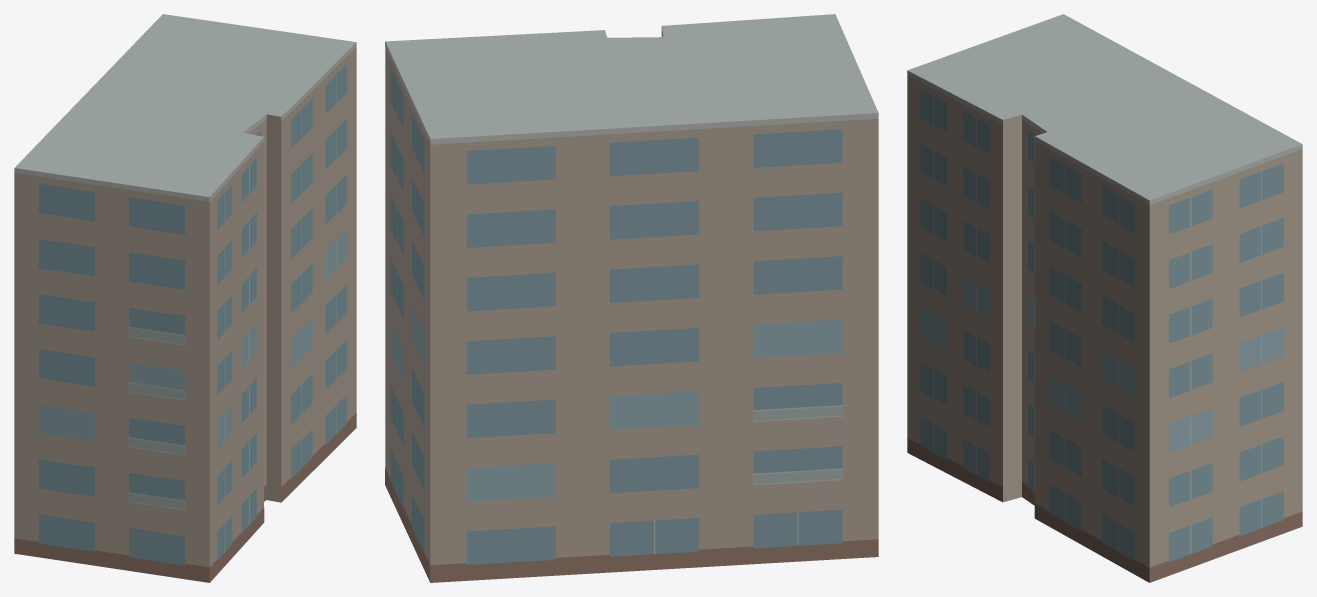
File: survey-upis-32977320.glb
3 renders of one model, left to right at view 1: azimuth 30°, elevation 25°; view 2: azimuth 150°, elevation 25°; view 3: azimuth 270°, elevation 25°, orthographic. The views are drawn at different scales.
Parts seen in each view (by area): view 1: survey-upis-32977320.tmp; view 2: survey-upis-32977320.tmp; view 3: survey-upis-32977320.tmp.
Boxes of the visible parts, x1,y1,x2,y2 form: survey-upis-32977320.tmp: [14, 14, 356, 582]; survey-upis-32977320.tmp: [385, 14, 878, 582]; survey-upis-32977320.tmp: [907, 14, 1302, 582].
Bounding box in the file's own units: 20.2 × 19.3 × 18.09.
